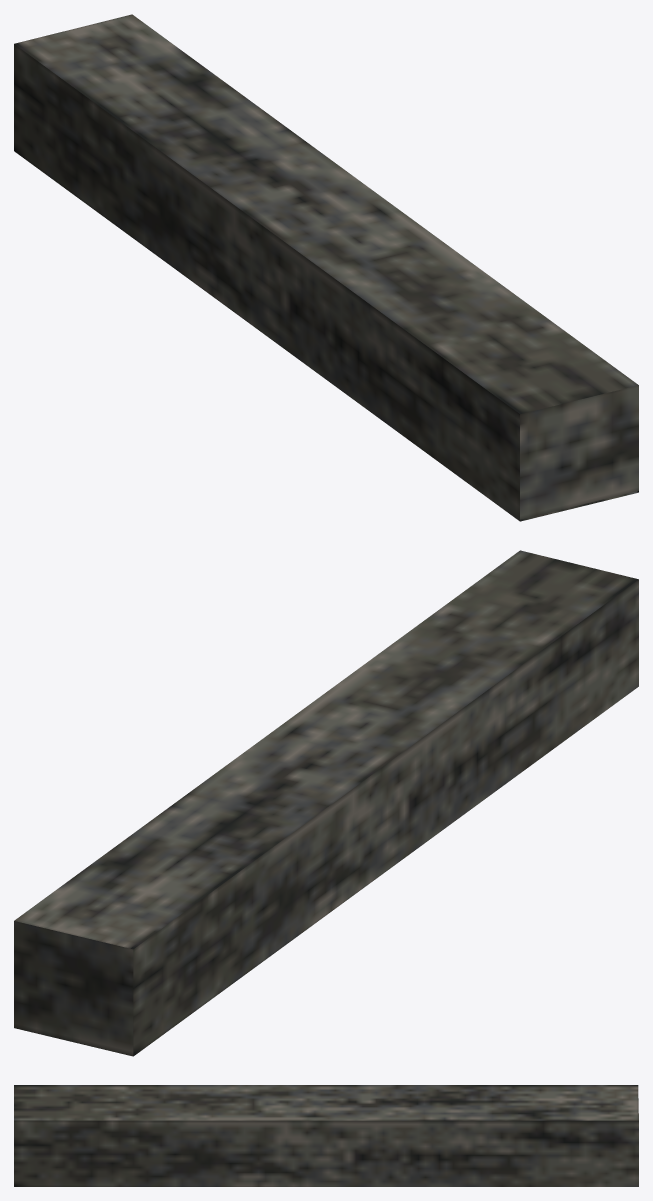
File: SM_EC_Fence_Part_01.fbx
3 renders of one model, top to bottom at view 1: azimuth 30°, elevation 25°; view 2: azimuth 150°, elevation 25°; view 3: azimuth 270°, elevation 25°, orthographic. The views are drawn at different scales.
Parts seen in each view (by area): view 1: SM_EC_Fence_Part_01; view 2: SM_EC_Fence_Part_01; view 3: SM_EC_Fence_Part_01.
Part boxes in pixels (x1,y1,x2,y2): SM_EC_Fence_Part_01: [14, 14, 638, 521]; SM_EC_Fence_Part_01: [14, 550, 638, 1056]; SM_EC_Fence_Part_01: [14, 1085, 638, 1186].
Bounding box in the file's own units: 0.2319 × 1.71 × 0.2.
